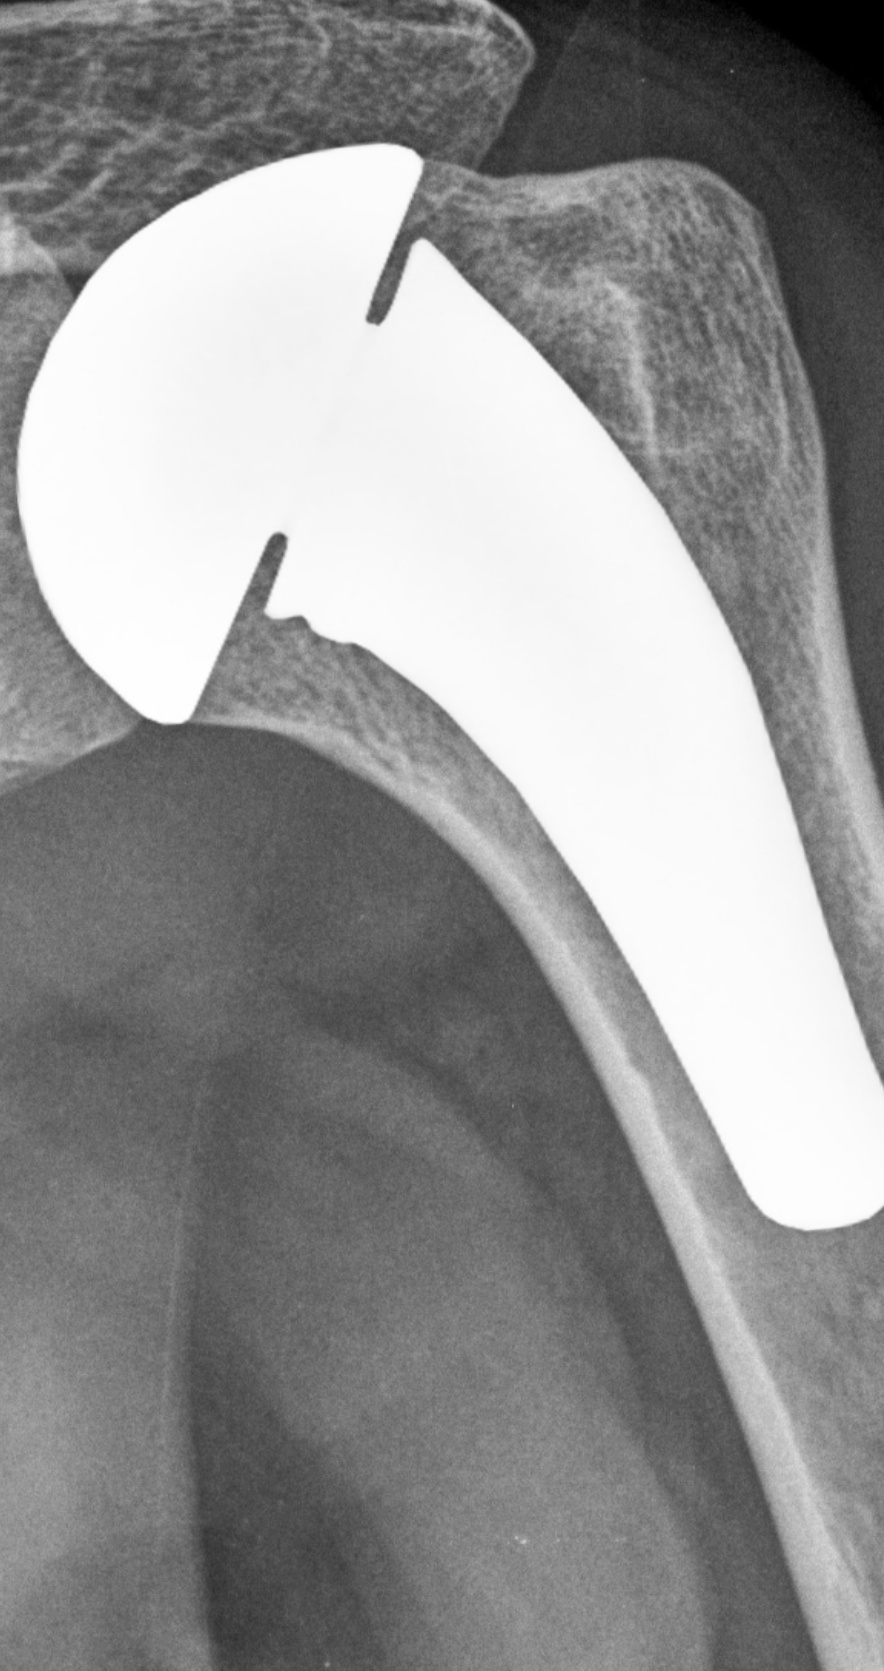Shoulder - AequalisAscendFlex - Tornier: (12, 133, 448, 747)
